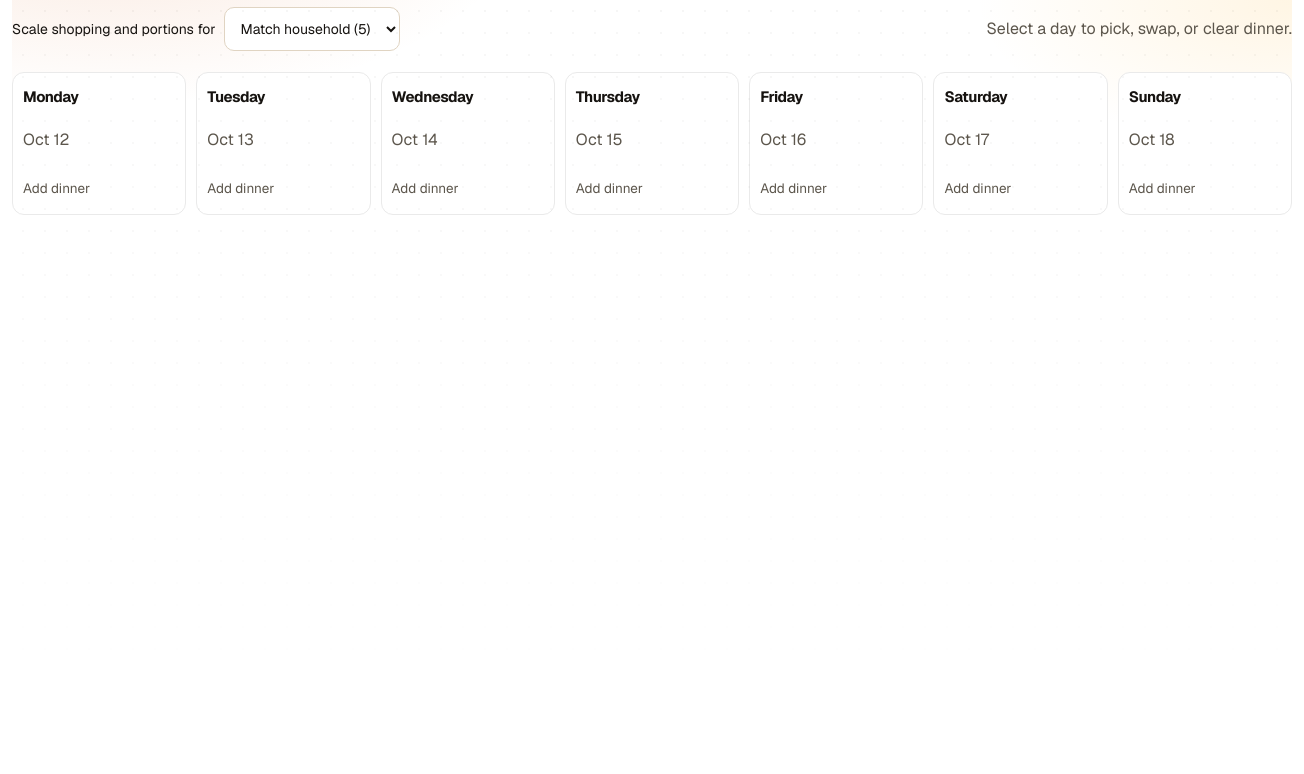
Test case: MealPlanWeek › keeps a 48-serving recipe on the week cook-for, including after picking 8 on an empty week
Select "8" in the dropdown labelled "Scale shopping and portions for" at (312, 29), box [224,7,400,51]
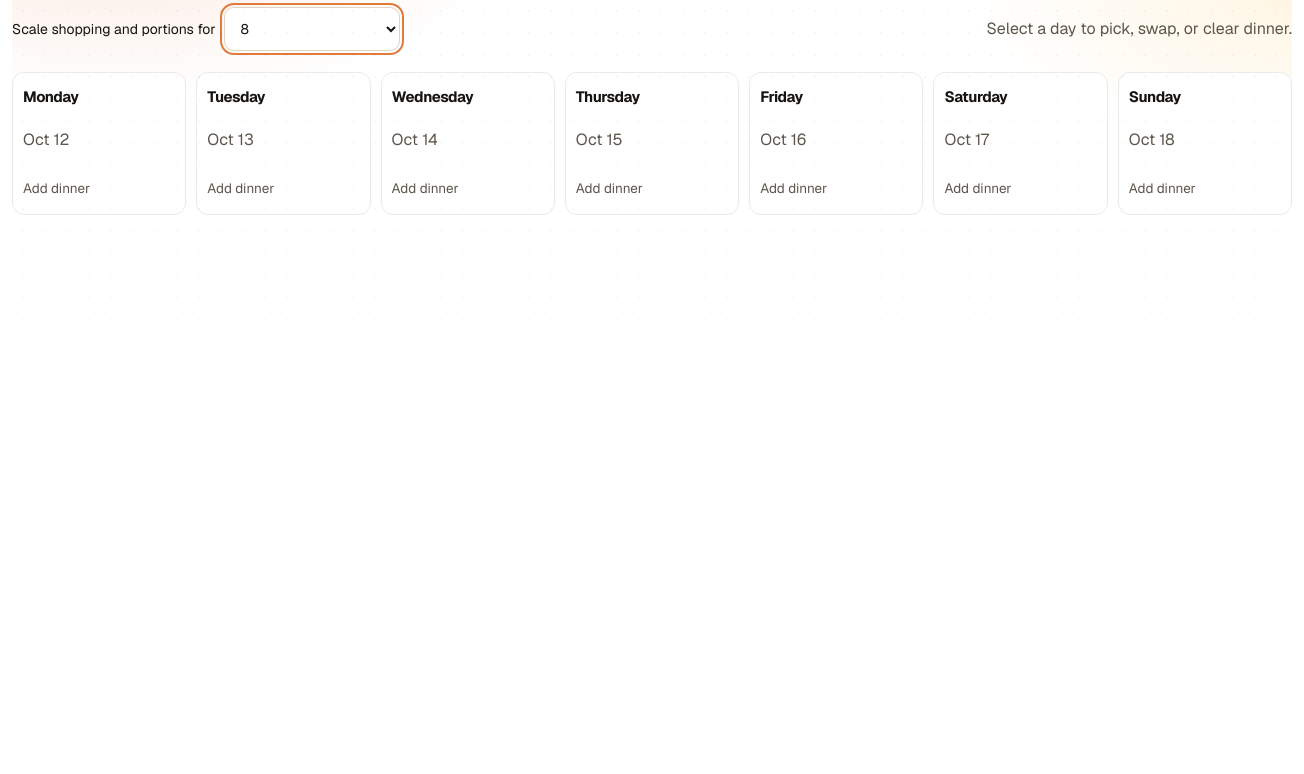
Click the button "Monday Oct 12 Add dinner".
click(99, 142)  # box [23,85,175,200]
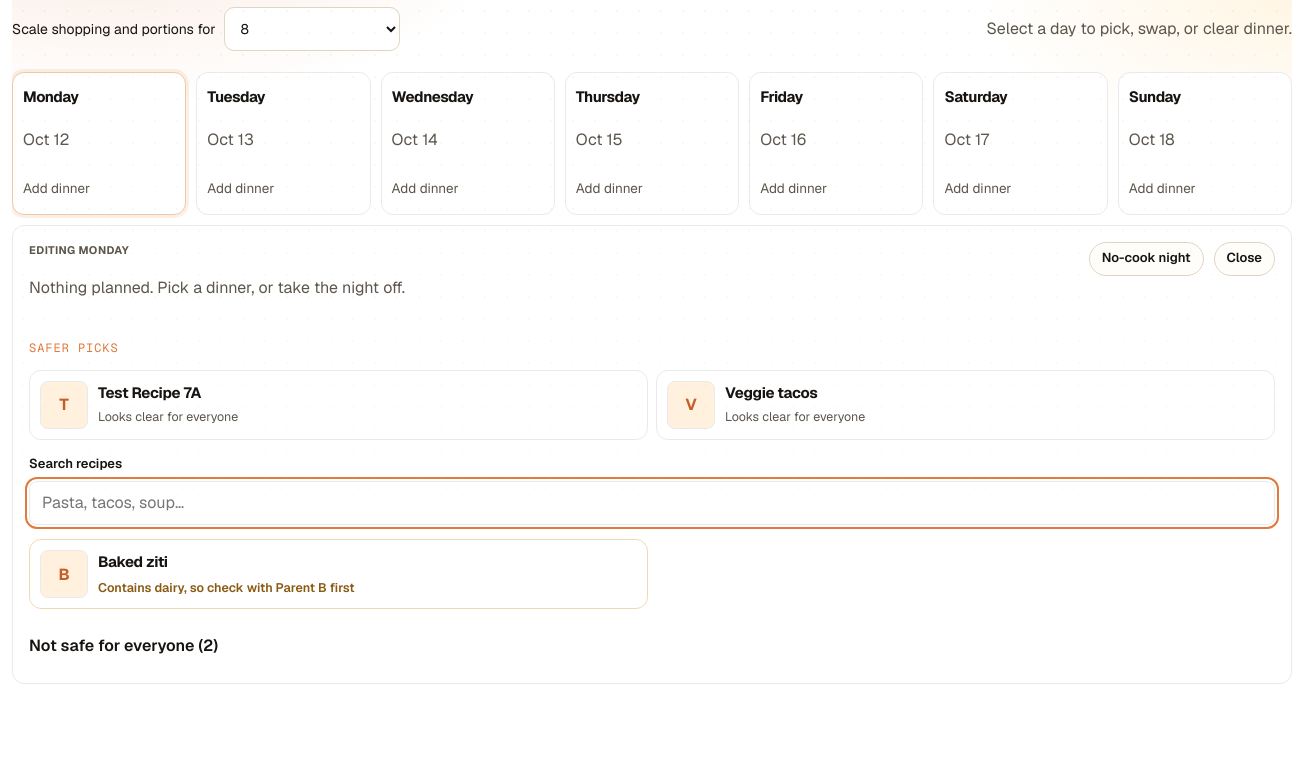
Click the button "T Test Recipe 7A Looks clear for everyone".
click(64, 405)  # box [29,370,648,440]
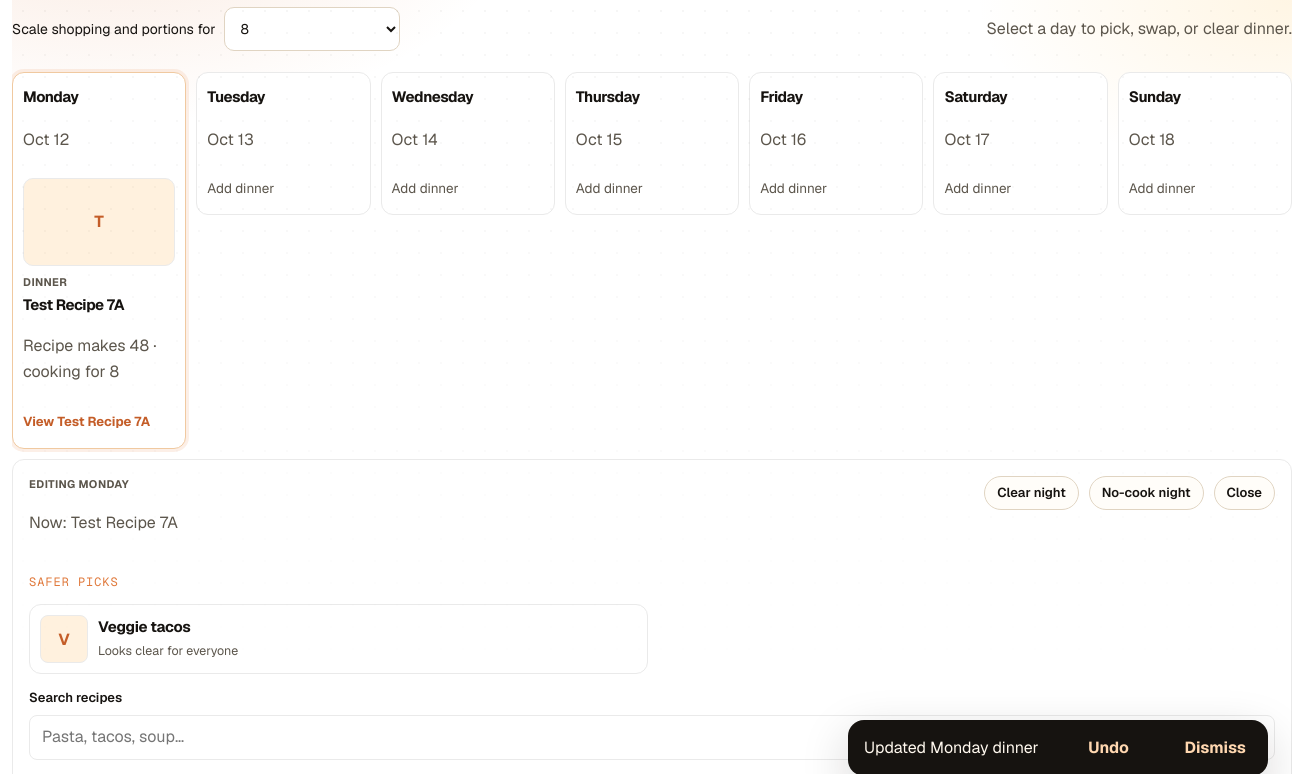
Now the text "Recipe makes 48 · cooking for 8" is shown, box [23,333,175,384]
